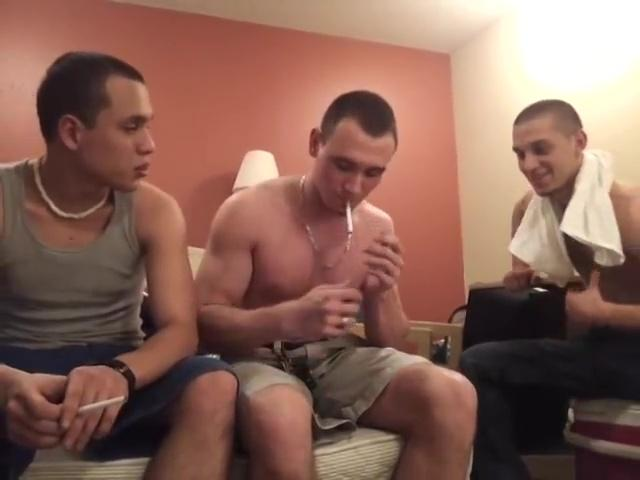cigarette: (76, 394, 129, 418), (345, 198, 355, 238)
